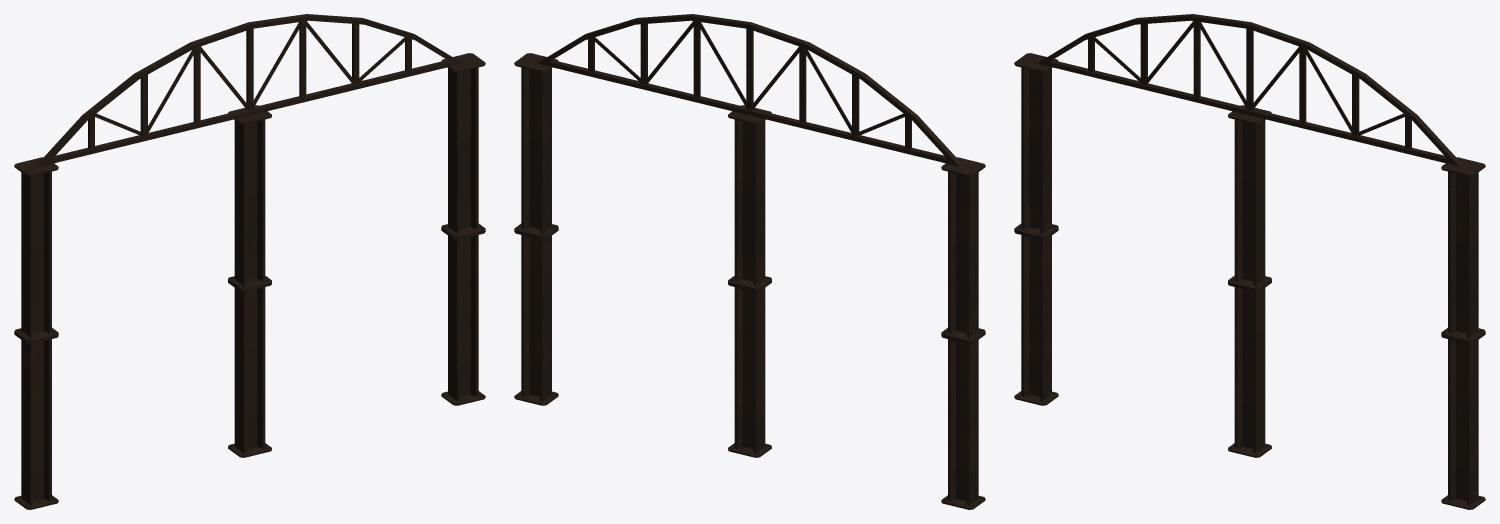
Rendered from warehouse_hl_1_frame_piece.dae.
The picture shows the model from 3 angles, left to right: view 1: azimuth 30°, elevation 25°; view 2: azimuth 150°, elevation 25°; view 3: azimuth 330°, elevation 25°; orthographic projection.
Visible parts, largest first — view 1: warehouse_hl_1_frame_piece; view 2: warehouse_hl_1_frame_piece; view 3: warehouse_hl_1_frame_piece.
Boxes of the visible parts, <box> form: warehouse_hl_1_frame_piece: <box>14,14,485,509</box>; warehouse_hl_1_frame_piece: <box>514,14,985,509</box>; warehouse_hl_1_frame_piece: <box>1014,14,1485,509</box>.
Size of the model in its own units: 8.6 by 0.5 by 7.62.
Materials: 1 (1 with a texture image).
